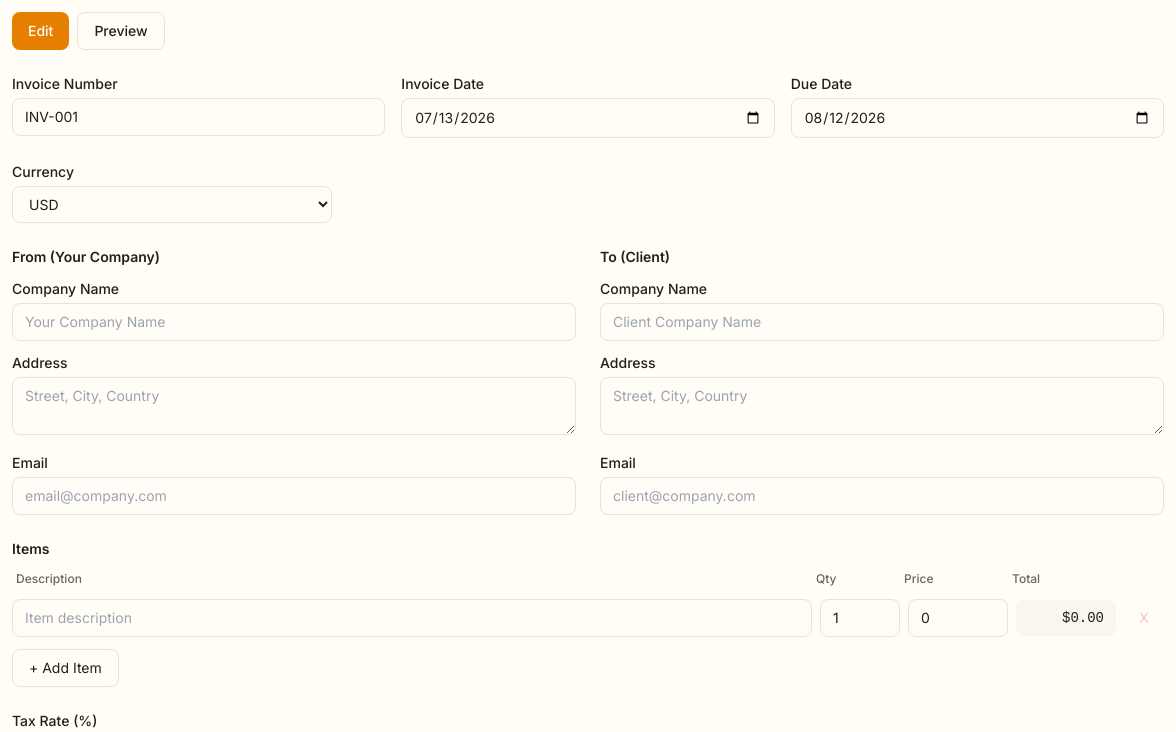
Test: InvoiceGenerator - Deep Tests › shows preview content when Preview is clicked
Note: Fill in some data first
Replace the text in the field named "Invoice number" with "INV-100" at x=199, y=117, box [12,98,385,136]
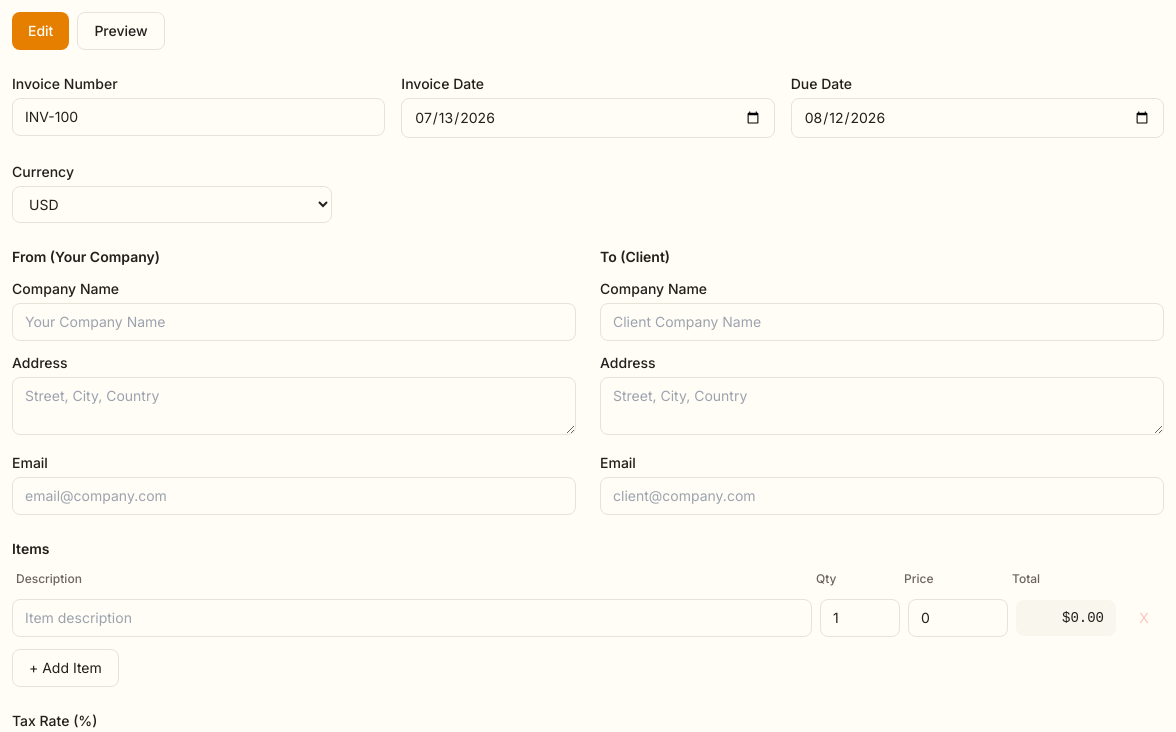
Click the button "Preview" at x=121, y=31, box [77,12,165,50]
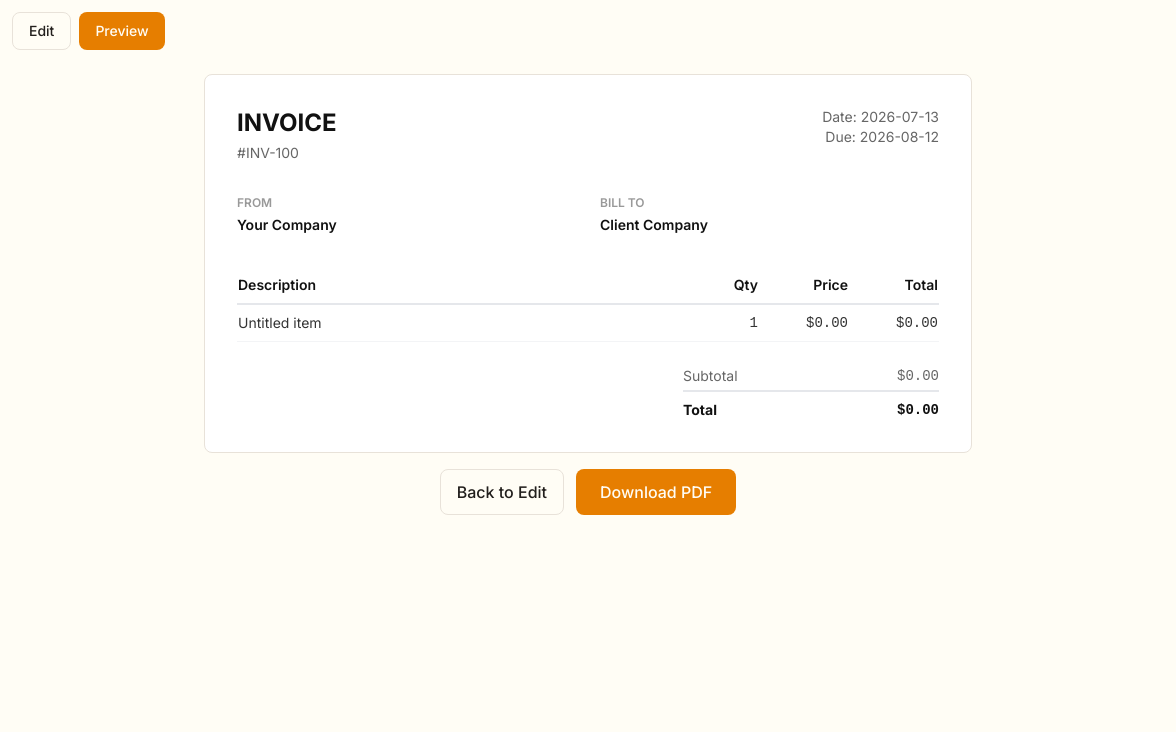
Expected: the heading "INVOICE" is shown, [237,107,337,139]
Expected: the text "#INV-100" is shown, [237,144,299,161]
